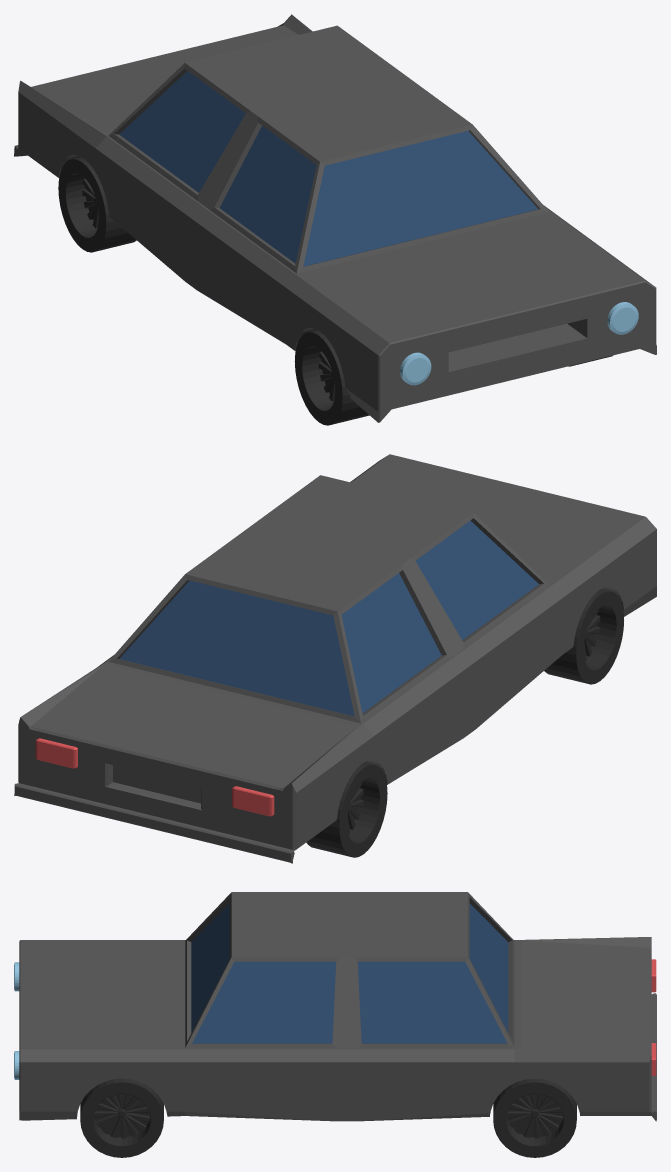
File: carmodel.fbx
The picture shows the model from 3 angles, top to bottom: view 1: azimuth 30°, elevation 25°; view 2: azimuth 150°, elevation 25°; view 3: azimuth 270°, elevation 25°; orthographic projection. The views are drawn at different scales.
Visible parts, largest first — view 1: body, wheelBR, wheelFR, Cylinder; view 2: body, wheelBR, wheelFR, backlights; view 3: body, wheelBL, wheelFL, backlights.
Boxes of the visible parts, x1=… form: body: x1=14, y1=14, x2=656, y2=422; wheelBR: x1=58, y1=157, x2=136, y2=252; wheelFR: x1=294, y1=330, x2=369, y2=425; Cylinder: x1=400, y1=302, x2=638, y2=385; body: x1=14, y1=454, x2=656, y2=863; wheelBR: x1=306, y1=762, x2=387, y2=857; wheelFR: x1=544, y1=589, x2=623, y2=684; backlights: x1=35, y1=738, x2=274, y2=816; body: x1=19, y1=892, x2=656, y2=1121; wheelBL: x1=493, y1=1078, x2=576, y2=1157; wheelFL: x1=80, y1=1078, x2=163, y2=1157; backlights: x1=651, y1=959, x2=656, y2=1075.
Size of the model in its own units: 266 by 180 by 604.
